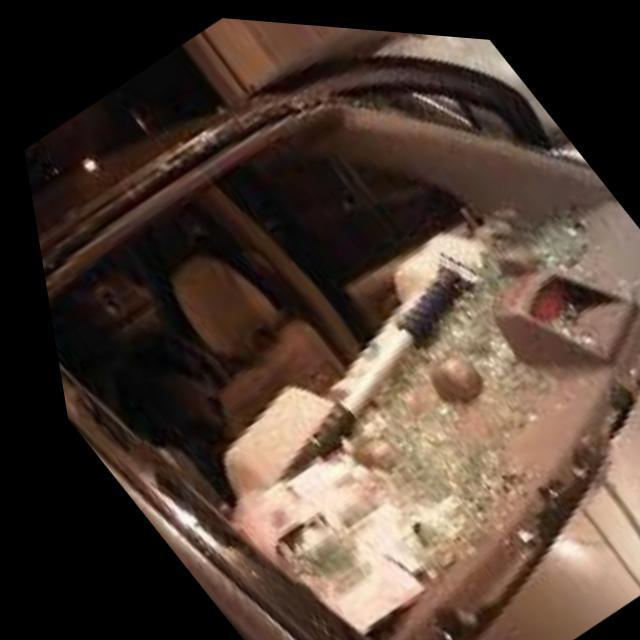no part: (33, 95, 640, 640)
